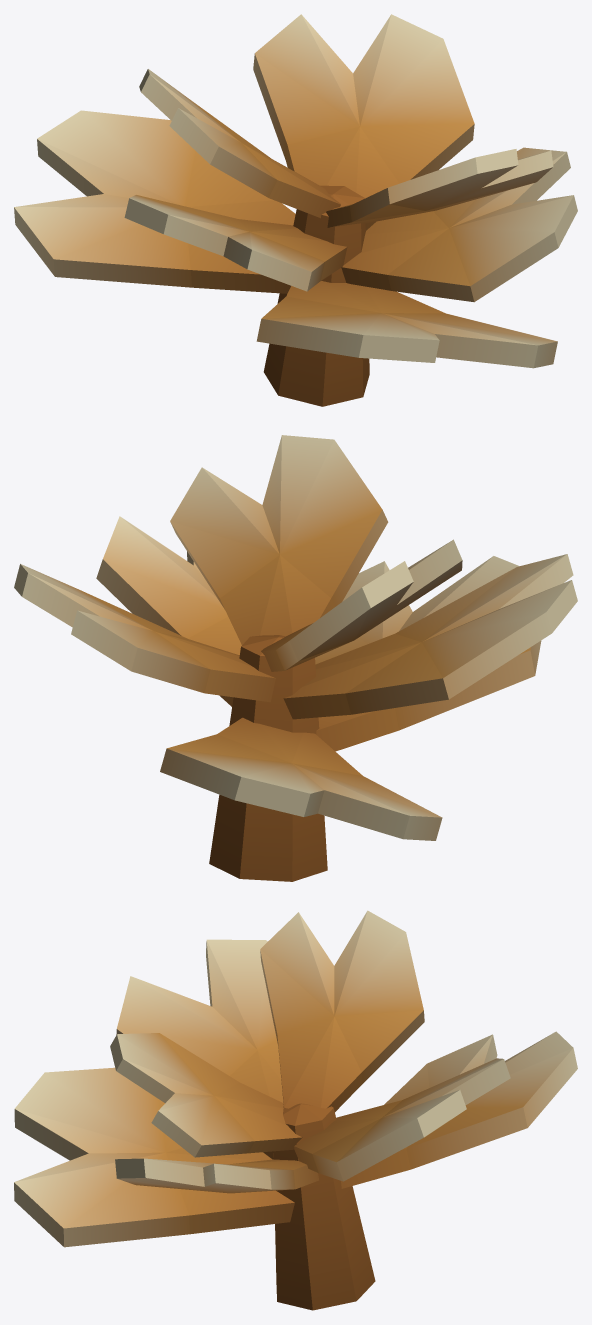
Rendered from coral-elkhorn.glb.
3 views of the same model, one above another, from view 1: azimuth 30°, elevation 25°; view 2: azimuth 150°, elevation 25°; view 3: azimuth 270°, elevation 25° (orthographic). The views are drawn at different scales.
Parts seen in each view (by area): view 1: coral-elkhorn_mesh; view 2: coral-elkhorn_mesh; view 3: coral-elkhorn_mesh.
Boxes of the visible parts, x1,y1,x2,y2 form: coral-elkhorn_mesh: (14, 14, 577, 406); coral-elkhorn_mesh: (14, 435, 577, 881); coral-elkhorn_mesh: (14, 910, 577, 1310).
Size of the model in its own units: 5.31 by 3.97 by 6.46.
